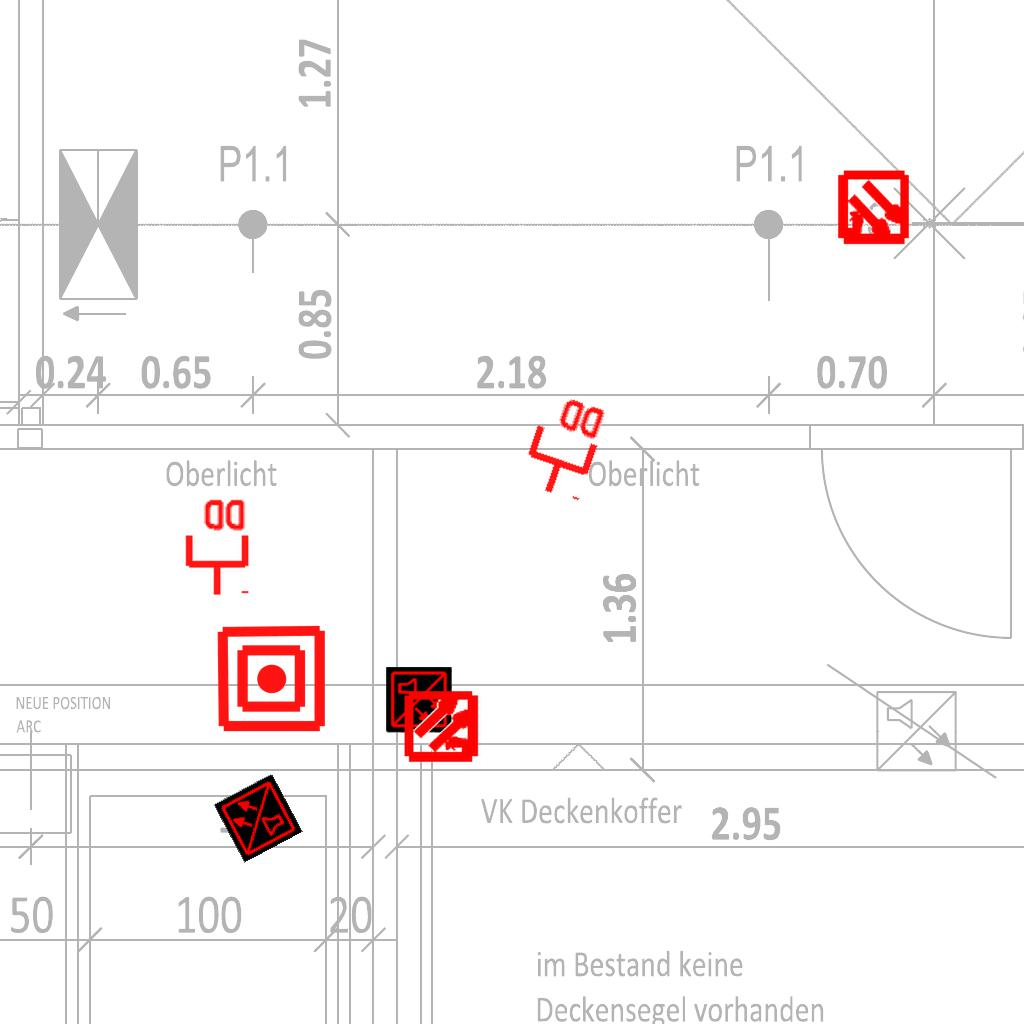Datenanschluss_zweifach: (513, 385, 612, 506), (181, 495, 250, 598)
NAM-Nichtautomatischer_Melder: (215, 622, 328, 735)
OKW_Multisensormelder_(Kombination_optischer_Rauch-Kahlenmonoxid_Waerme-Melder): (213, 773, 303, 863), (386, 667, 452, 733)
OT_Multisensormelder_(Kombination_RMO_WMD): (817, 153, 930, 266), (387, 670, 500, 783)
